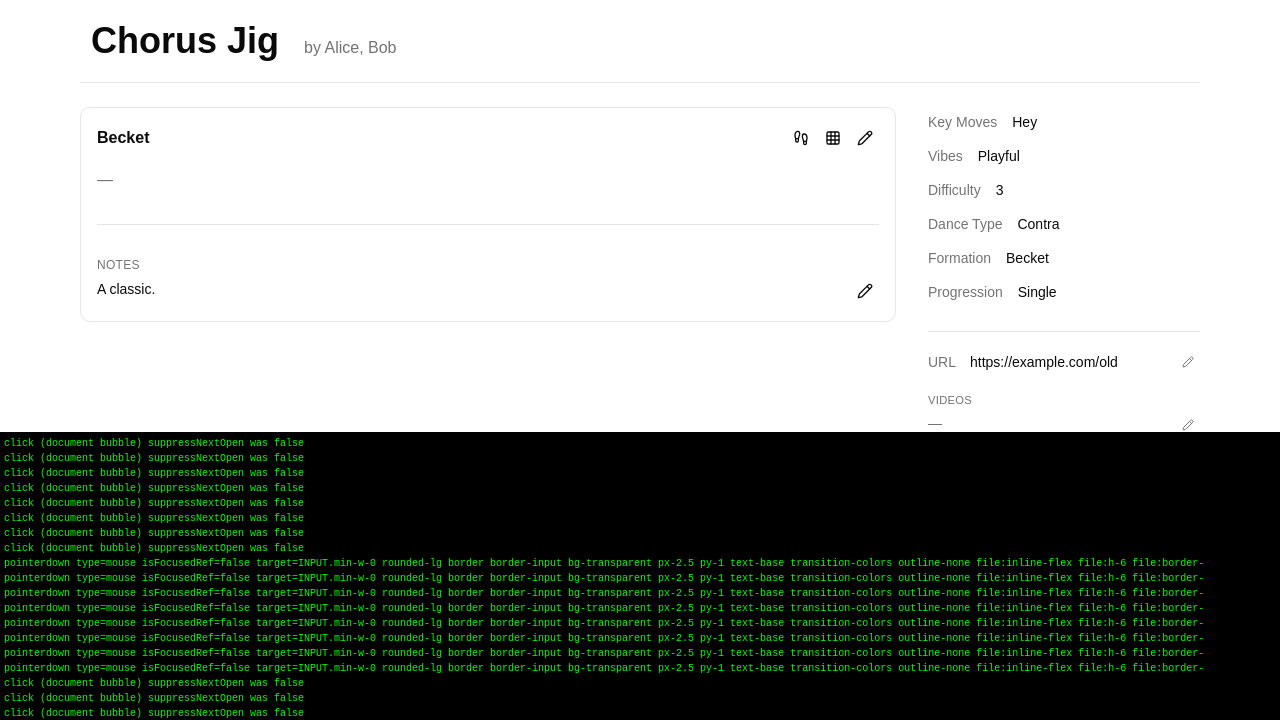
it: DanceDetailPage › url field › shows an edited url immediately after committing, bridging the gap before the query catches up
The width and height of the screenshot is (1280, 720).
Click the button named "Edit URL" at (1188,362), box [1176,350,1200,374]
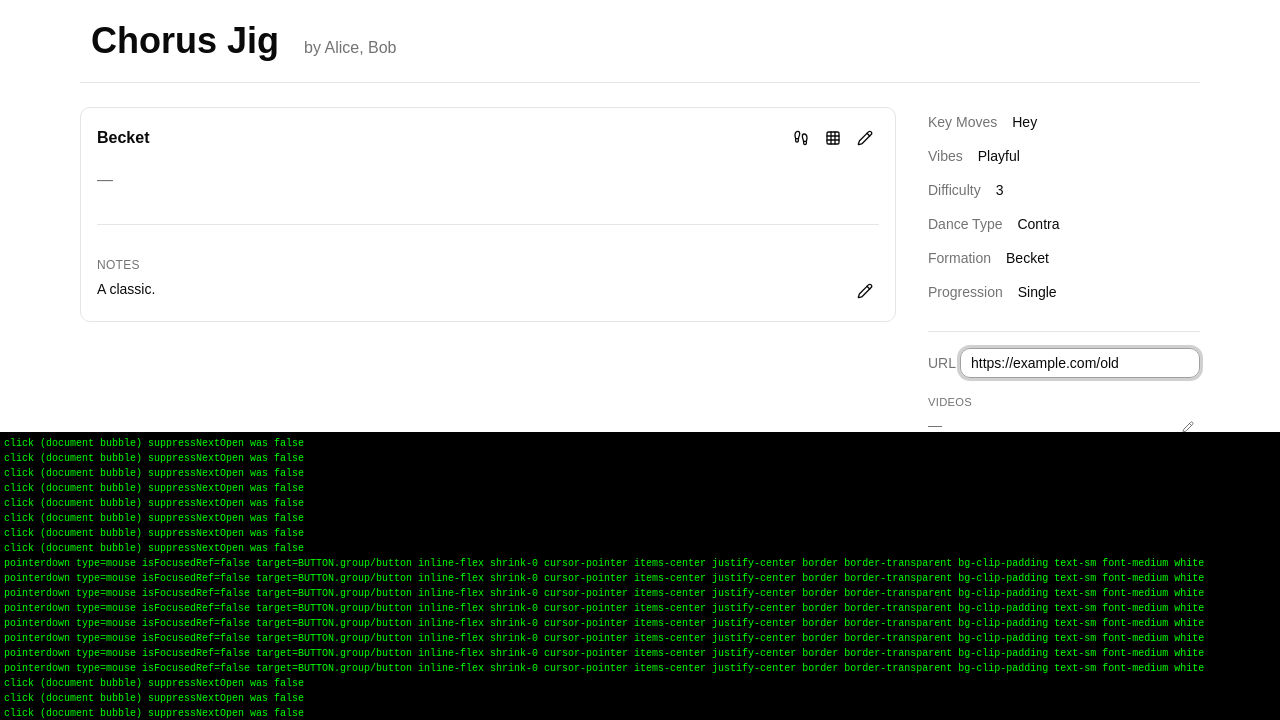
Replace the text in the field with "https://example.com/new" at (1080,363), box [960,348,1200,378]
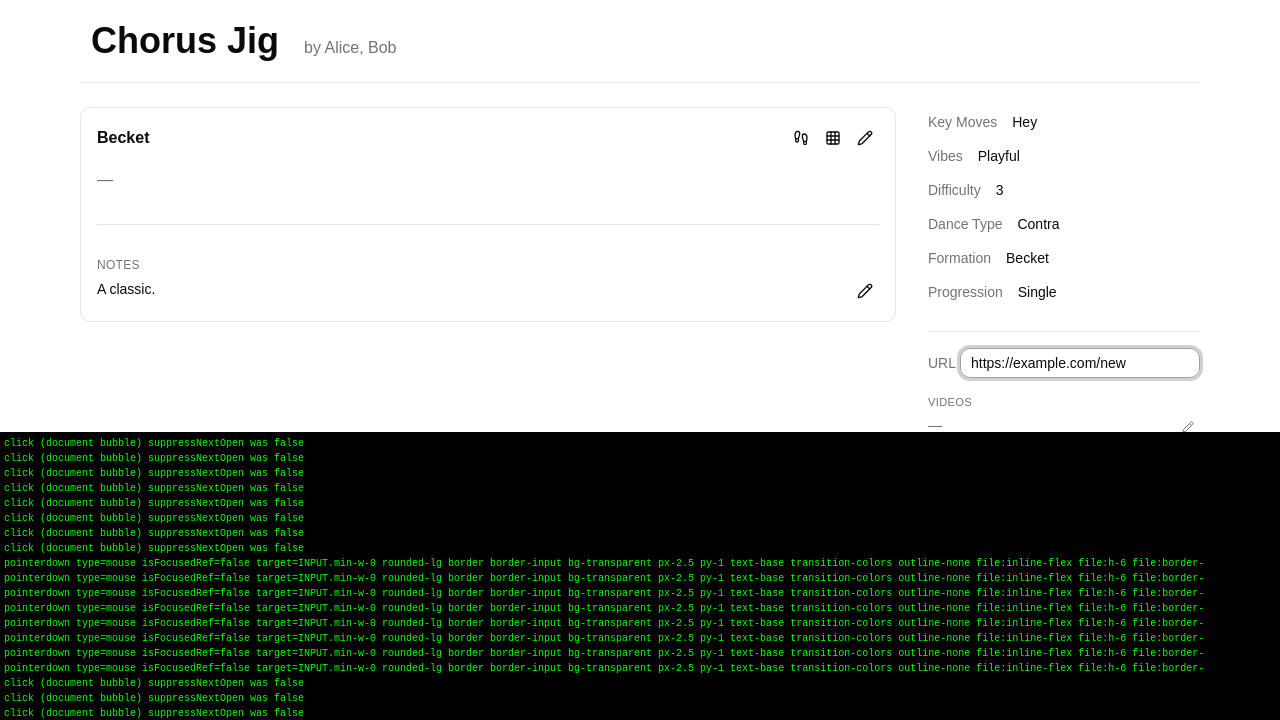
Press Tab
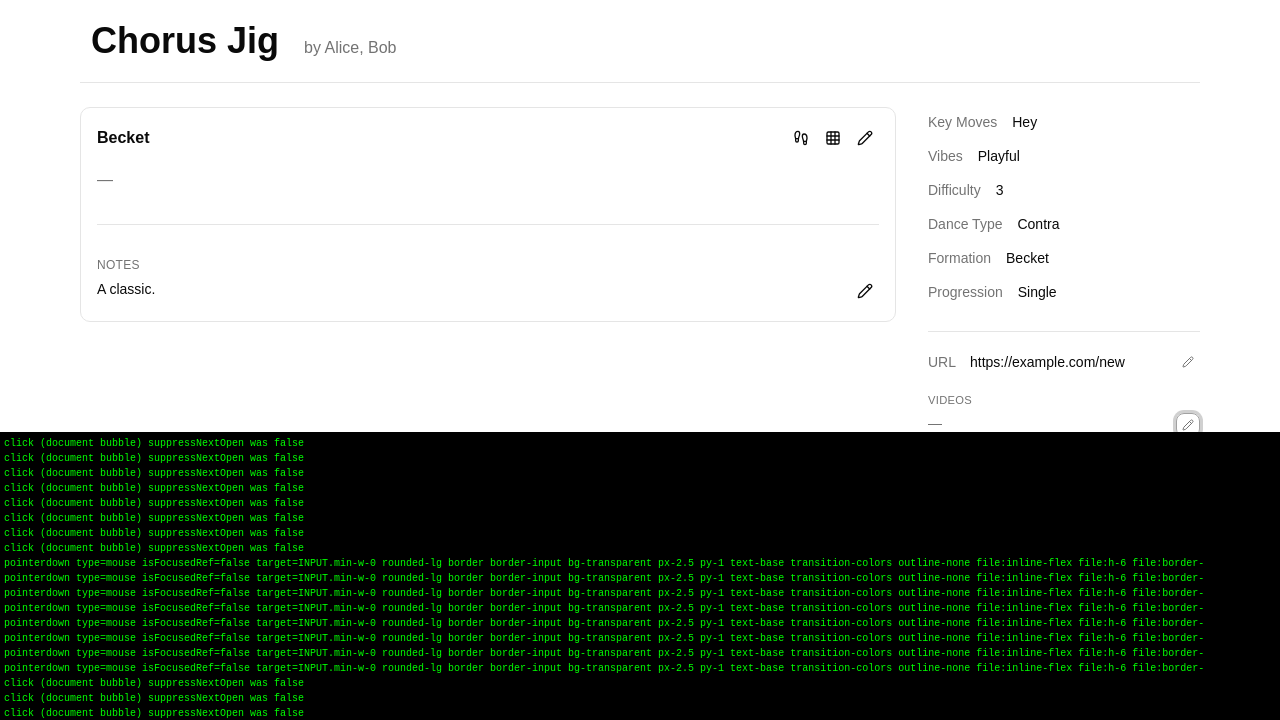
Check: the link "https://example.com/new" is shown, box [970,354,1125,370]
